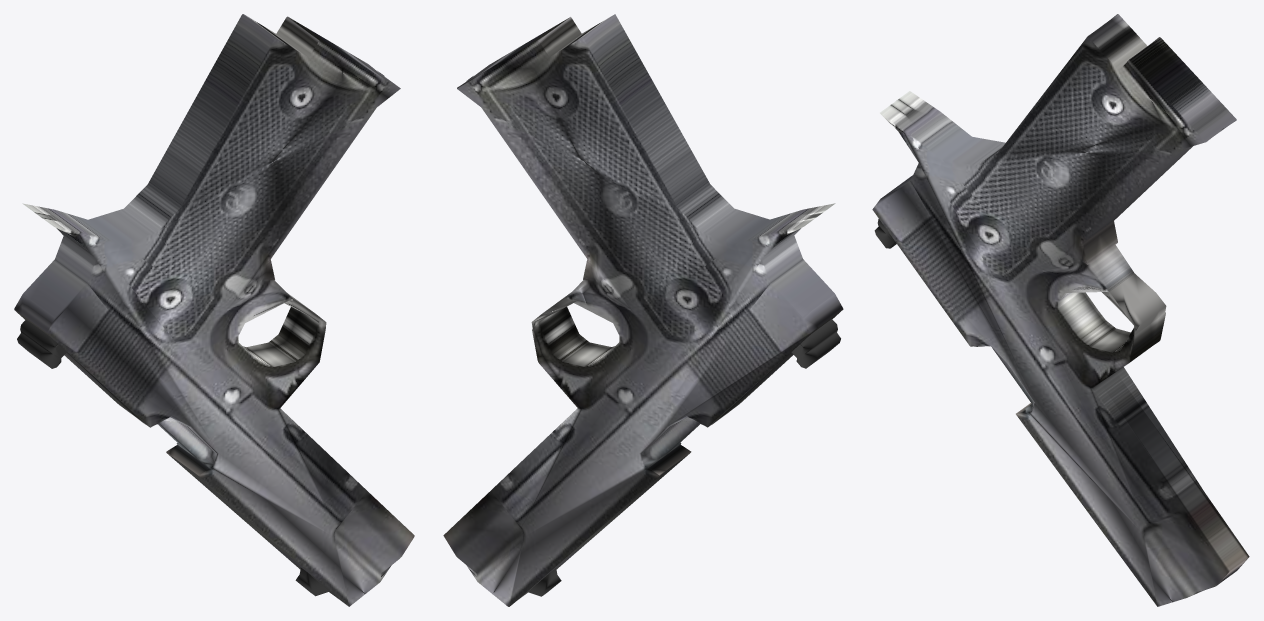
The model's file is pistol.dae.
The picture shows the model from 3 angles, left to right: view 1: azimuth 30°, elevation 25°; view 2: azimuth 150°, elevation 25°; view 3: azimuth 330°, elevation 25°; orthographic projection. The views are drawn at different scales.
Parts seen in each view (by area): view 1: Line04; view 2: Line04; view 3: Line04.
Boxes of the visible parts, bbox=[...] form: Line04: bbox=[14, 14, 414, 606]; Line04: bbox=[443, 14, 843, 606]; Line04: bbox=[872, 14, 1249, 606].
Size of the model in its own units: 110 by 16.36 by 165.
